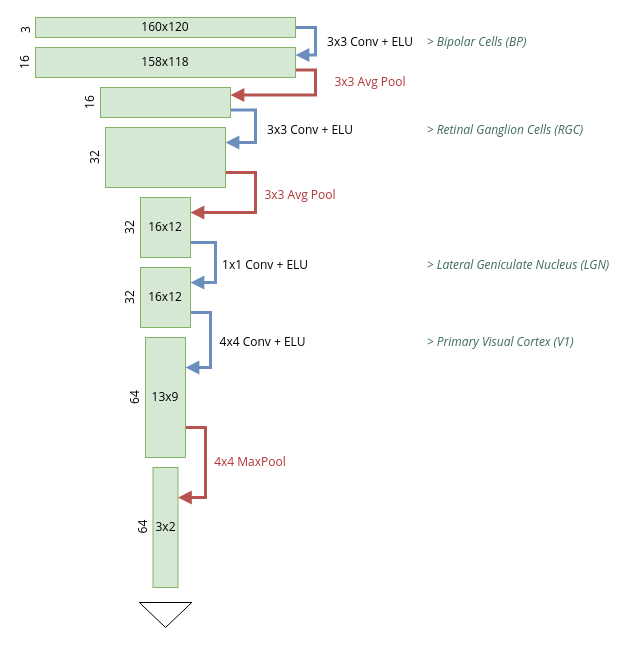
Some shapes in this 643 by 645 pixel diagram are drawn without their labels. Each missing label, with the centre of its shape:
50x37: pixel 165 157
52x39: pixel 165 102
FC: pixel 165 615
